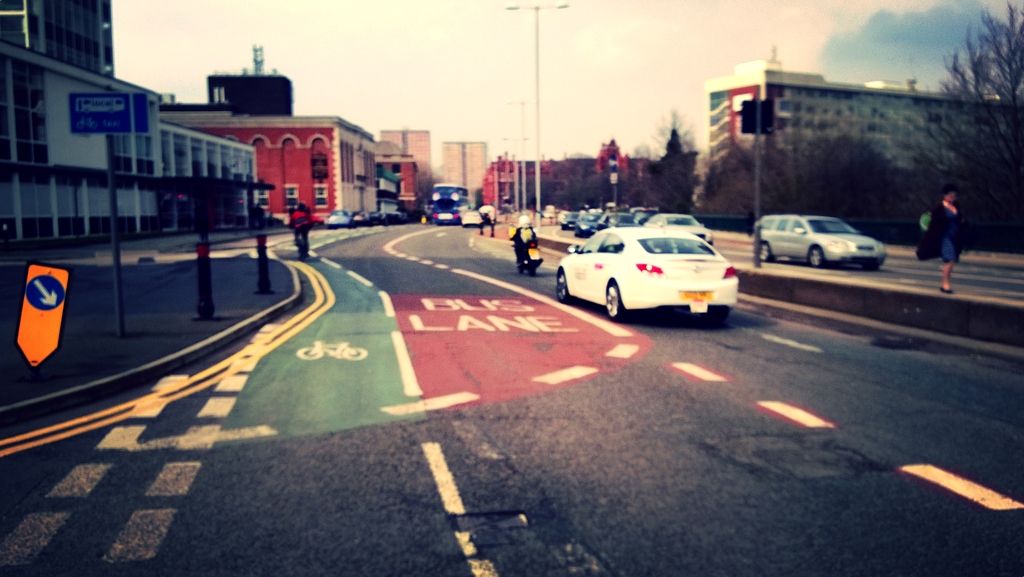Car: (554, 209, 748, 319), (750, 214, 888, 267), (560, 208, 713, 243), (325, 197, 410, 228), (430, 198, 464, 222), (460, 209, 483, 228)
